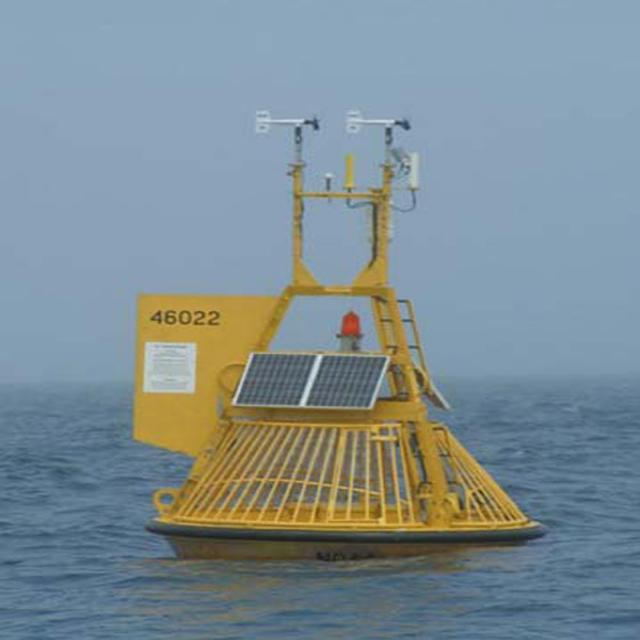buoy: (122, 99, 551, 559)
